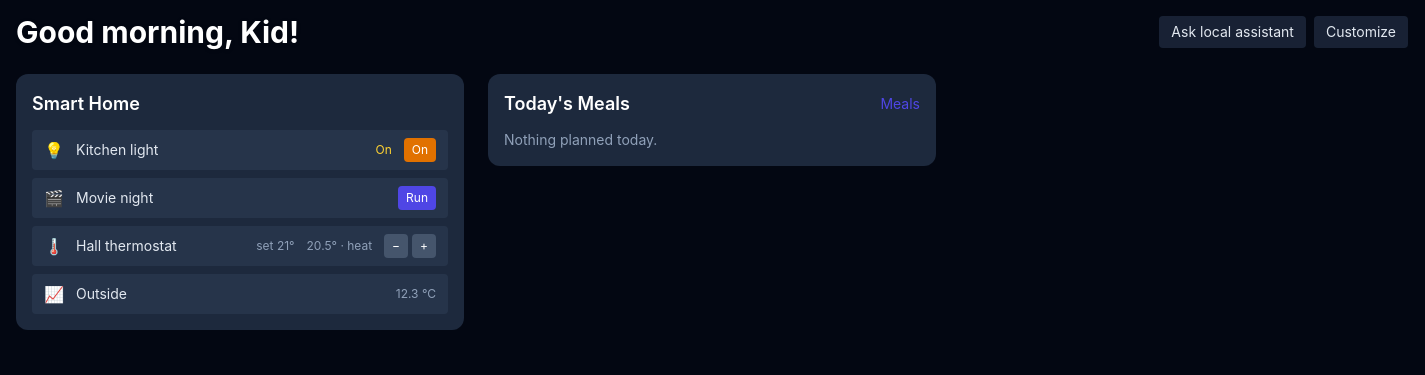
Test: Smart home card › explains an action that failed
Expected: the text "Kitchen light" is shown, [76,141,158,158]
Step 1. Click the button with aria-label "Run: Movie night" → (417, 198), box [398,186,436,210]
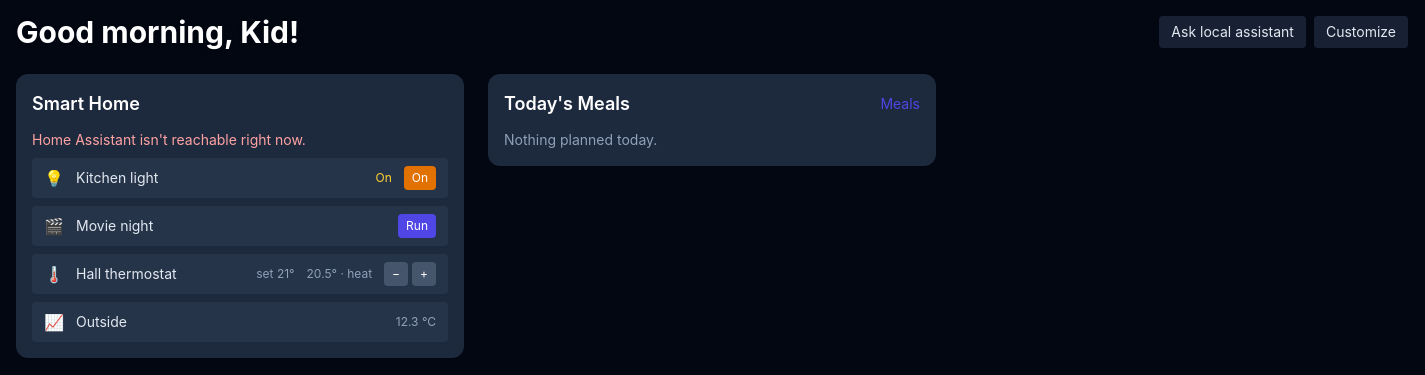
Result: the message shows "isn't reachable" at [32,131,306,148]
